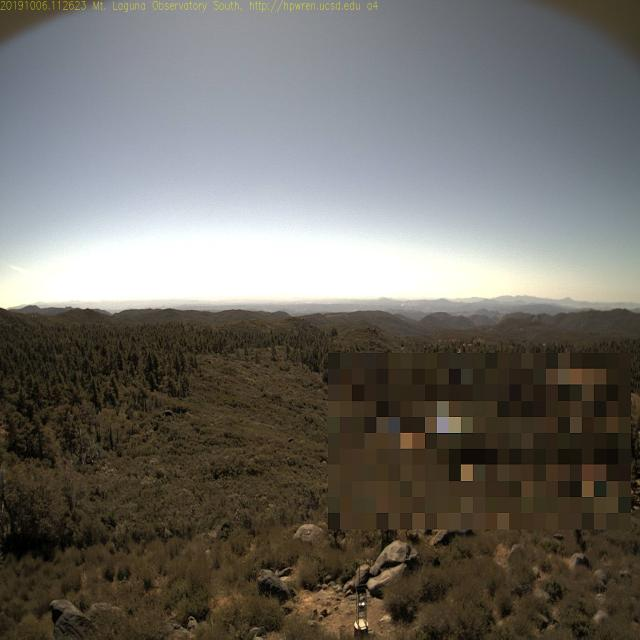smoke: (396, 295, 419, 309)
